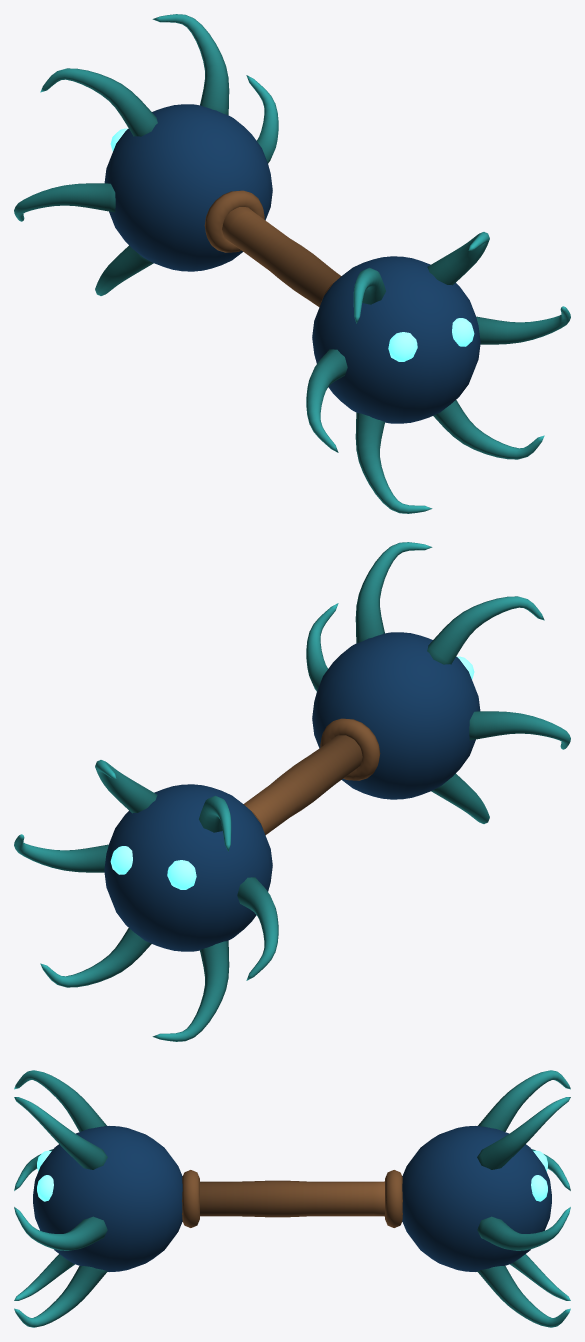
Rendered from KrakenDumbbell.glb.
The picture shows the model from 3 angles, top to bottom: view 1: azimuth 30°, elevation 25°; view 2: azimuth 150°, elevation 25°; view 3: azimuth 270°, elevation 25°; orthographic projection. The views are drawn at different scales.
Visible parts, largest first — view 1: KrakenDumbbell, KrakenDumbbell_Glow; view 2: KrakenDumbbell, KrakenDumbbell_Glow; view 3: KrakenDumbbell, KrakenDumbbell_Glow.
Part boxes in pixels (x1,y1,x2,y2): KrakenDumbbell: (14, 14, 570, 513); KrakenDumbbell_Glow: (110, 128, 474, 361); KrakenDumbbell: (14, 542, 570, 1041); KrakenDumbbell_Glow: (110, 656, 474, 889); KrakenDumbbell: (14, 1070, 570, 1327); KrakenDumbbell_Glow: (37, 1150, 547, 1201).
Size of the model in its own units: 1.29 by 1.24 by 2.74.
Materials: 2 (1 with a texture image).
